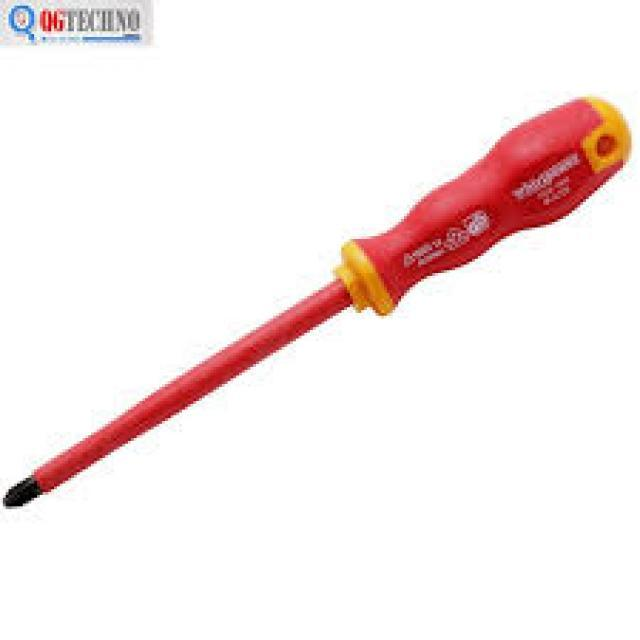screwdriver: (0, 92, 631, 513)
